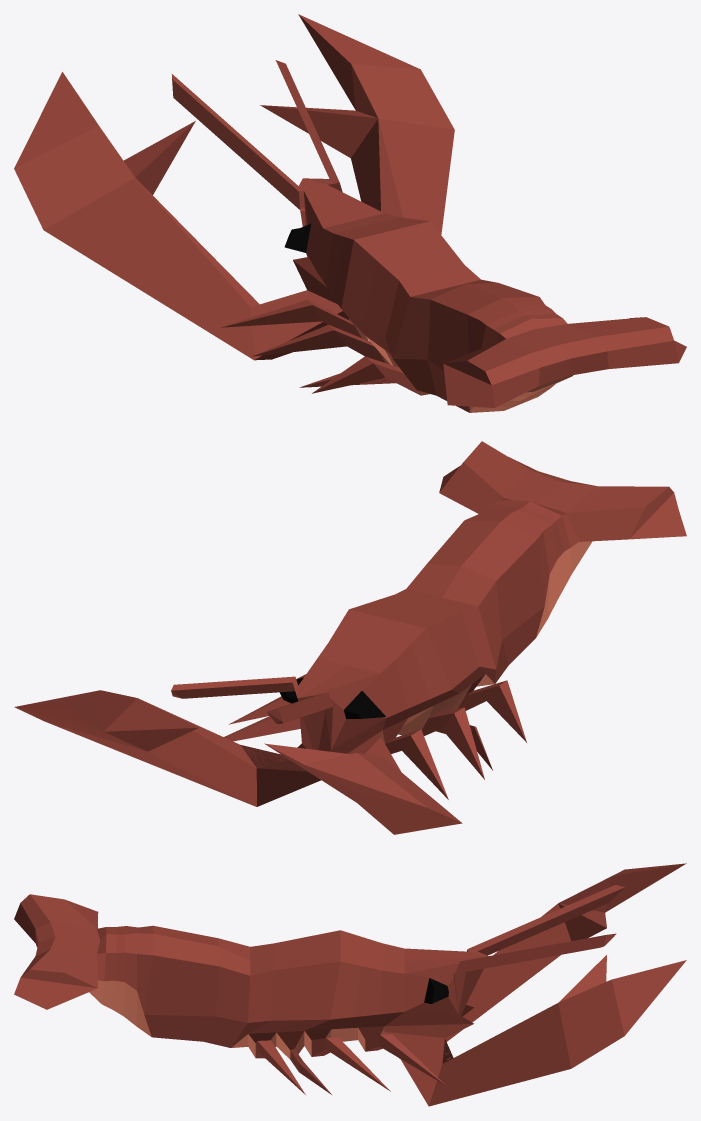
Rendered from LobsterRaw.glb.
The picture shows the model from 3 angles, top to bottom: view 1: azimuth 30°, elevation 25°; view 2: azimuth 150°, elevation 25°; view 3: azimuth 270°, elevation 25°; orthographic projection. The views are drawn at different scales.
Parts seen in each view (by area): view 1: EXPORT_lobster; view 2: EXPORT_lobster; view 3: EXPORT_lobster.
Part boxes in pixels (x1,y1,x2,y2): EXPORT_lobster: [14, 14, 686, 412]; EXPORT_lobster: [14, 441, 686, 834]; EXPORT_lobster: [14, 863, 686, 1106].
Size of the model in its own units: 0.4127 by 0.1922 by 0.6964.
